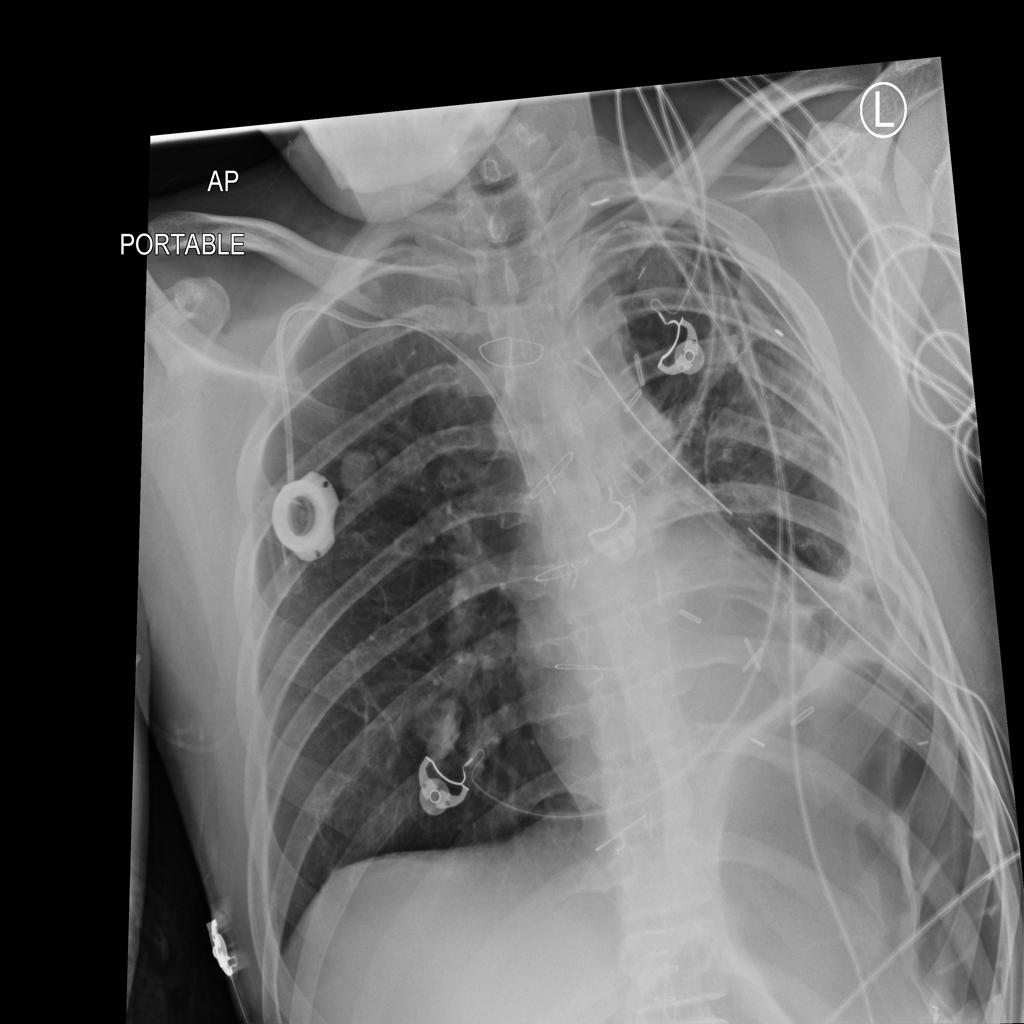nodule: (403, 678, 472, 764), (329, 431, 392, 511)
